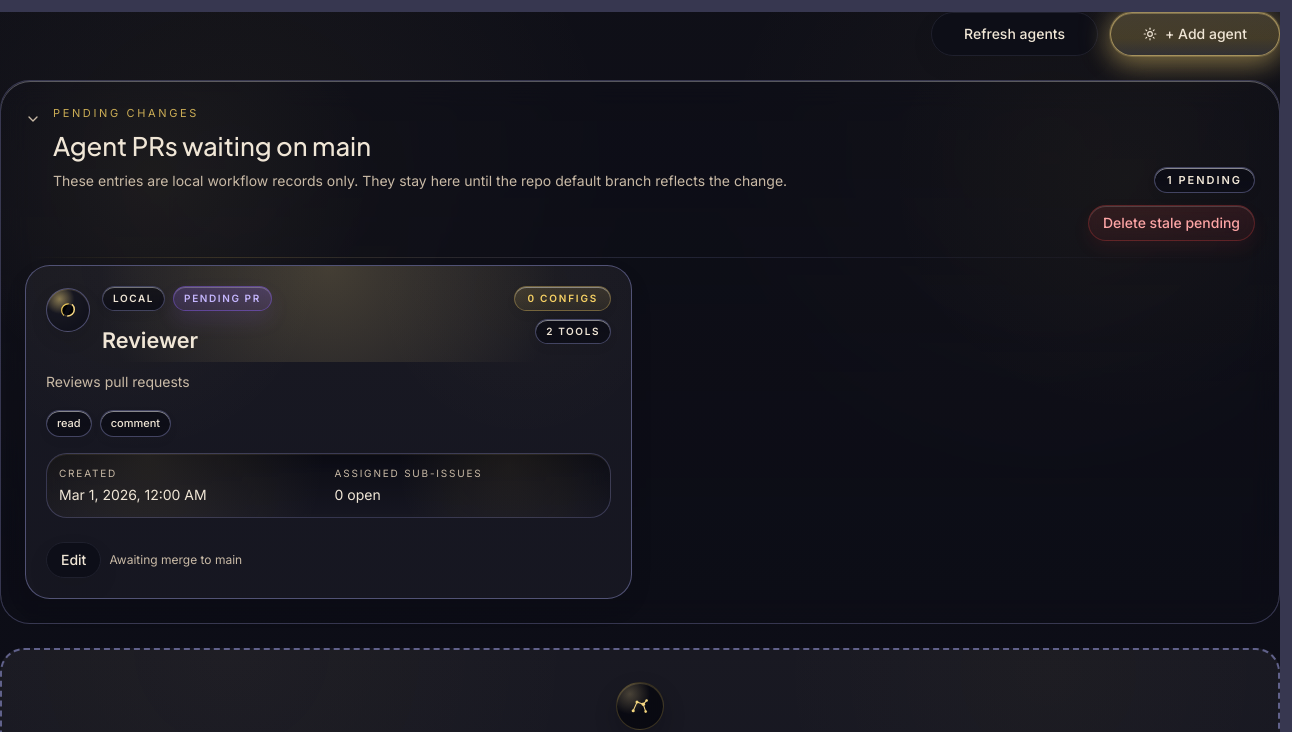
Test: AgentsPanel › opens the inline editor for pending local agents
Expected: the text "Pending changes" is shown, [53,106,199,120]
Click the button "Edit" at (74, 560), box [46,542,101,578]
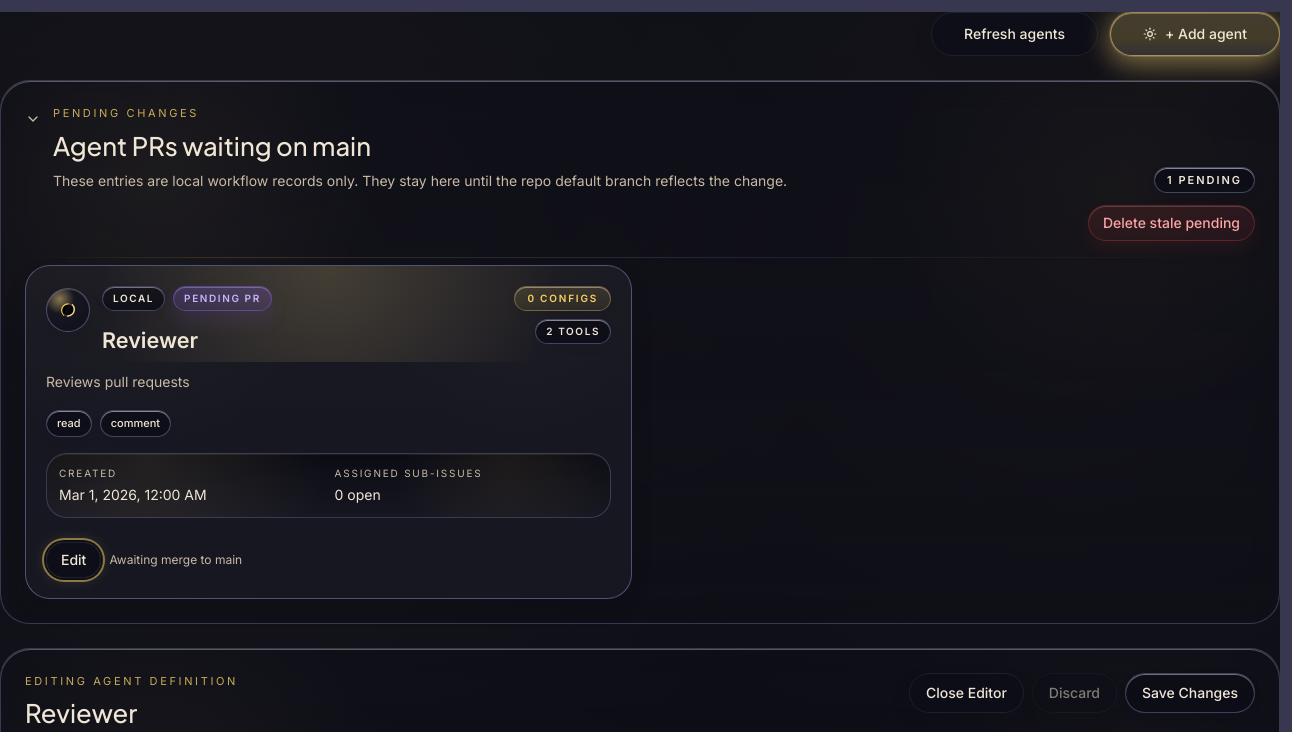
Expected: the text "Editing agent definition" is shown, [25,674,238,688]
Expected: the button "Save Changes" is shown, [1125,673,1255,713]
